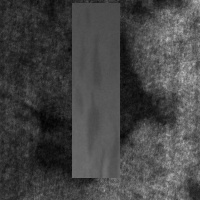inclusion: (72, 3, 120, 178)
patches: (68, 12, 169, 153), (26, 127, 111, 186)
